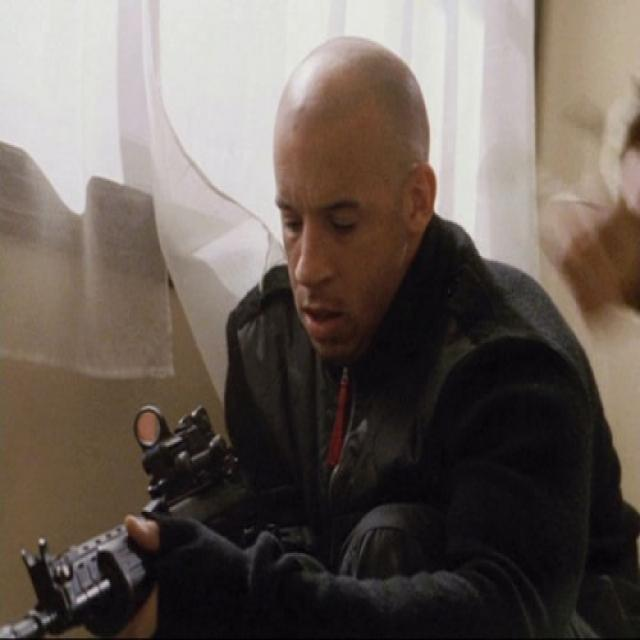rifle: (1, 391, 258, 640)
